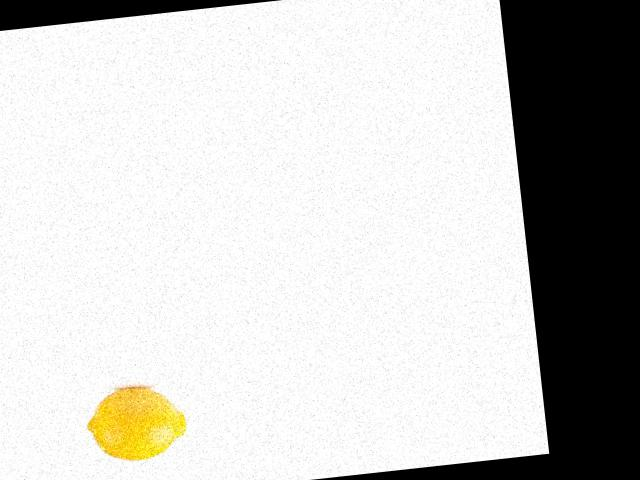lemon: (78, 383, 199, 469)
